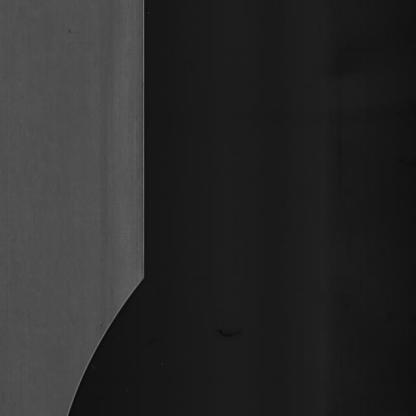crescent_gap: (59, 262, 150, 416)
